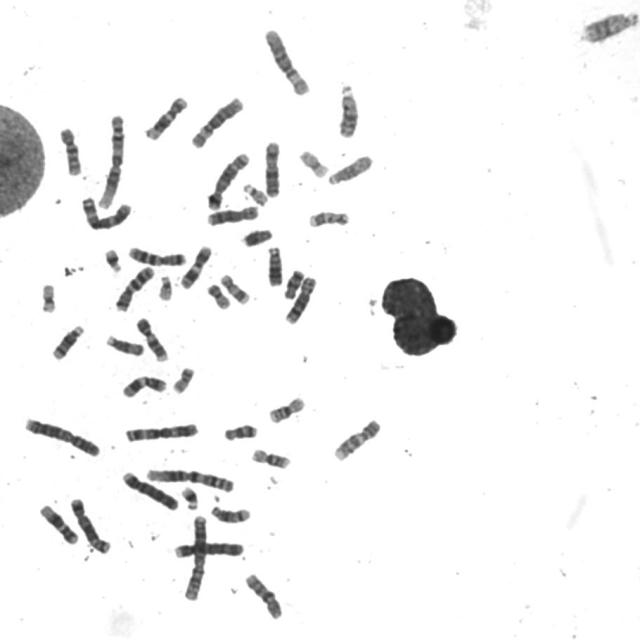A1: (94, 110, 128, 210), (143, 464, 237, 494)
A2: (20, 413, 103, 458), (181, 511, 210, 602)
A3: (78, 193, 134, 231), (122, 418, 200, 444)
B4: (119, 468, 180, 512), (171, 538, 246, 560)
B5: (204, 148, 252, 212), (66, 494, 113, 555)
C10: (242, 569, 285, 621), (56, 122, 84, 177)
C11: (178, 242, 214, 290), (120, 371, 168, 399)
C12: (141, 92, 190, 142), (36, 500, 81, 546)
C6: (262, 24, 313, 96), (188, 92, 246, 149)
C7: (112, 262, 157, 313), (125, 243, 189, 267)
C8: (282, 272, 319, 326), (204, 202, 262, 227)
C9: (331, 415, 384, 462), (133, 314, 170, 362)
D13: (579, 6, 639, 45), (335, 79, 361, 139)
D14: (49, 321, 87, 361), (208, 502, 253, 524)
D15: (325, 150, 375, 187), (104, 331, 146, 357)
E16: (265, 392, 308, 424), (248, 444, 294, 470)
E17: (218, 270, 252, 306), (306, 207, 352, 229)
E18: (281, 266, 307, 300), (222, 420, 260, 442)
F19: (296, 146, 331, 178), (38, 280, 58, 314)
F20: (203, 280, 233, 310), (169, 363, 197, 395)
G21: (102, 244, 125, 274), (178, 483, 201, 511)
G22: (240, 180, 270, 206), (155, 271, 175, 302)
X: (262, 138, 284, 198)
Y: (239, 225, 275, 248)
